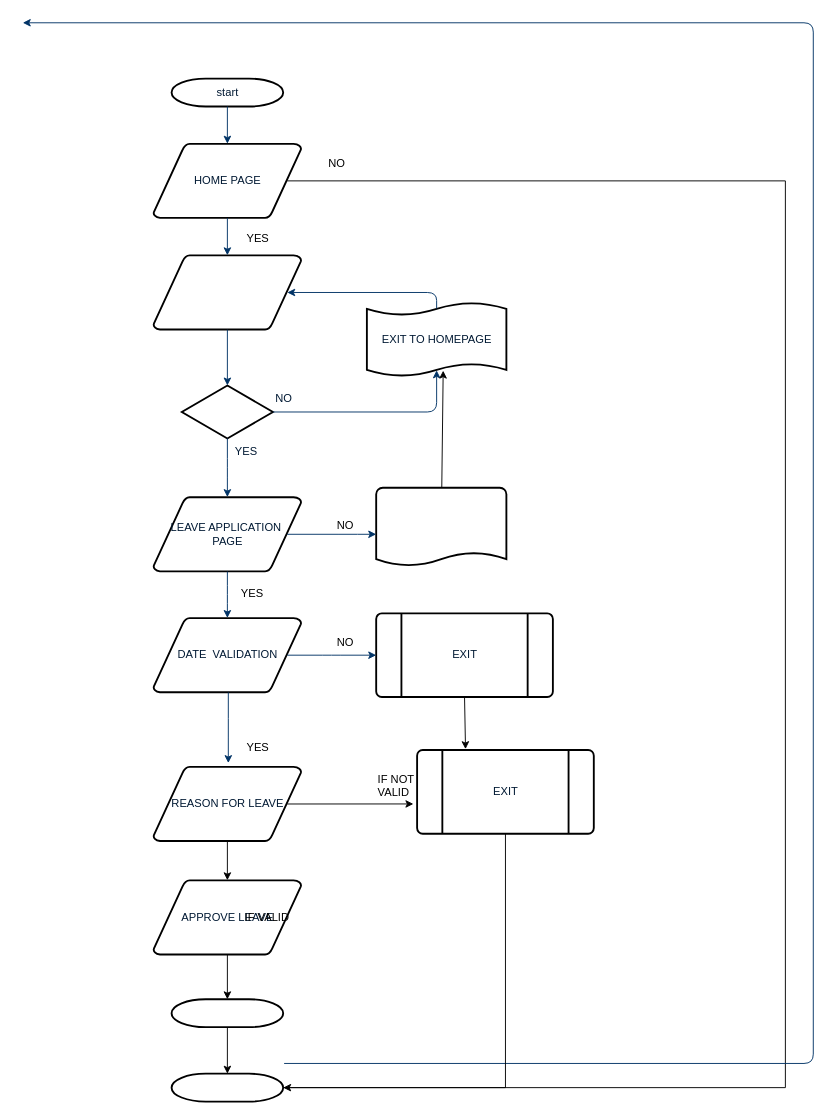
The diagram is 837 pixels wide and 1119 high, and some of its shapes have lost their labels. The box of each missing label's shape, as (x1, y1, x2, y2) in pixels:
end: (170, 1072, 284, 1102)
EXIT TO LOGIN PAGE: (170, 998, 284, 1028)
LOGIN PAGE: (152, 254, 302, 330)
LOGOUT: (375, 486, 507, 567)
USERNAME PASSWORD: (180, 384, 273, 439)
